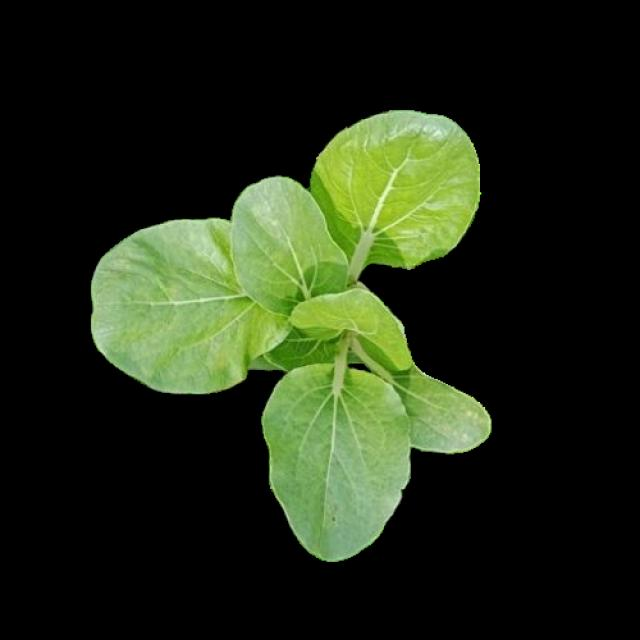healthy: (91, 120, 486, 560)
not-mature: (93, 109, 489, 562)
